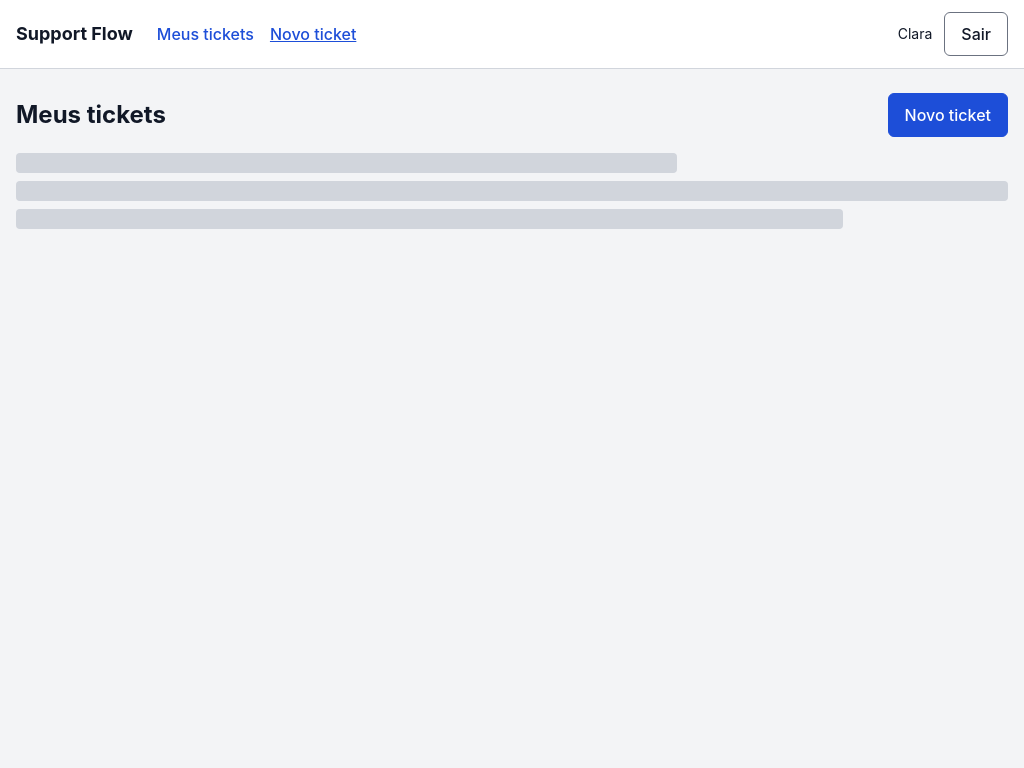
Test: sessão e rotas › sair leva a /entrar sem aviso de expiração
Click the button "Sair". click: click(976, 34)
box: x1=944 y1=12 x2=1008 y2=56
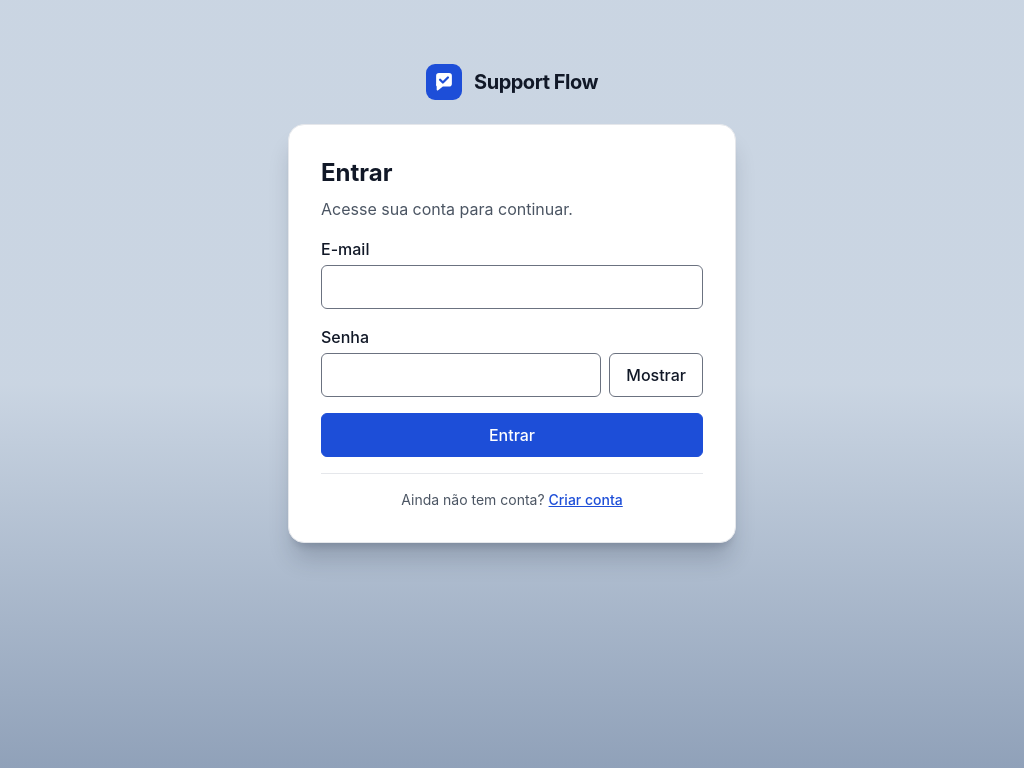
Result: the heading "Entrar" is shown at x1=321 y1=157 x2=392 y2=189
